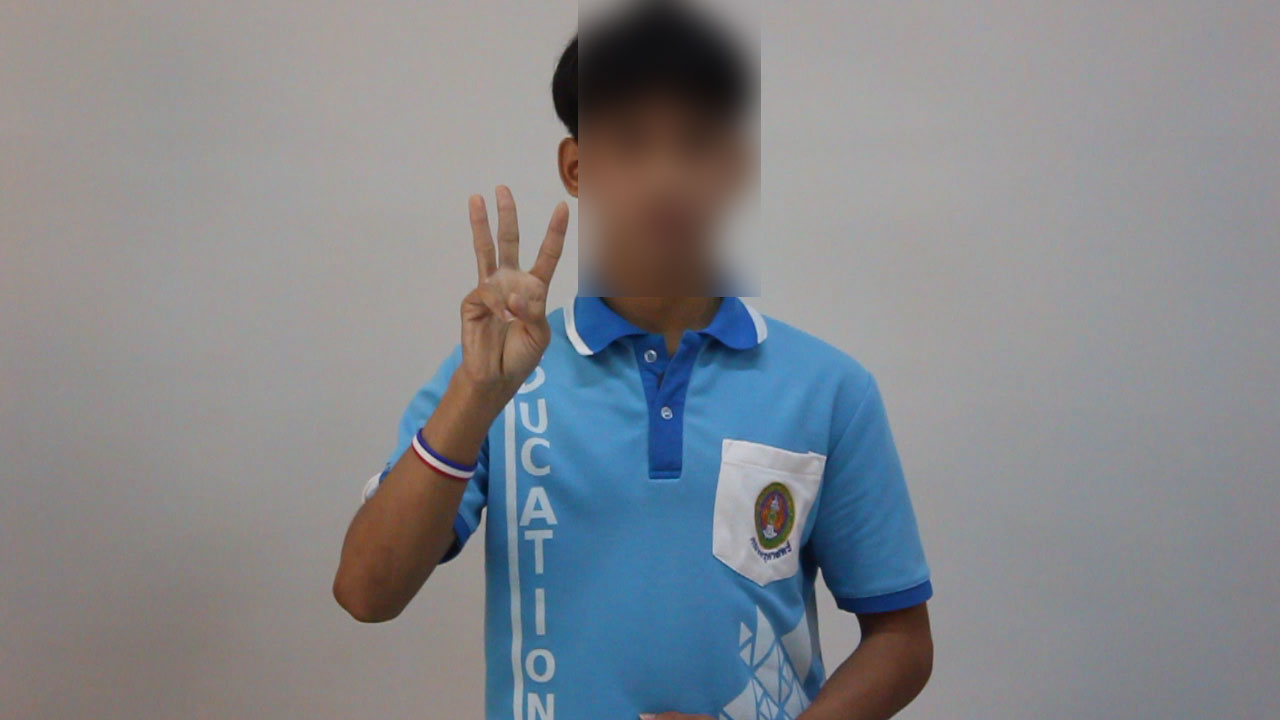wor: (443, 176, 575, 398)
